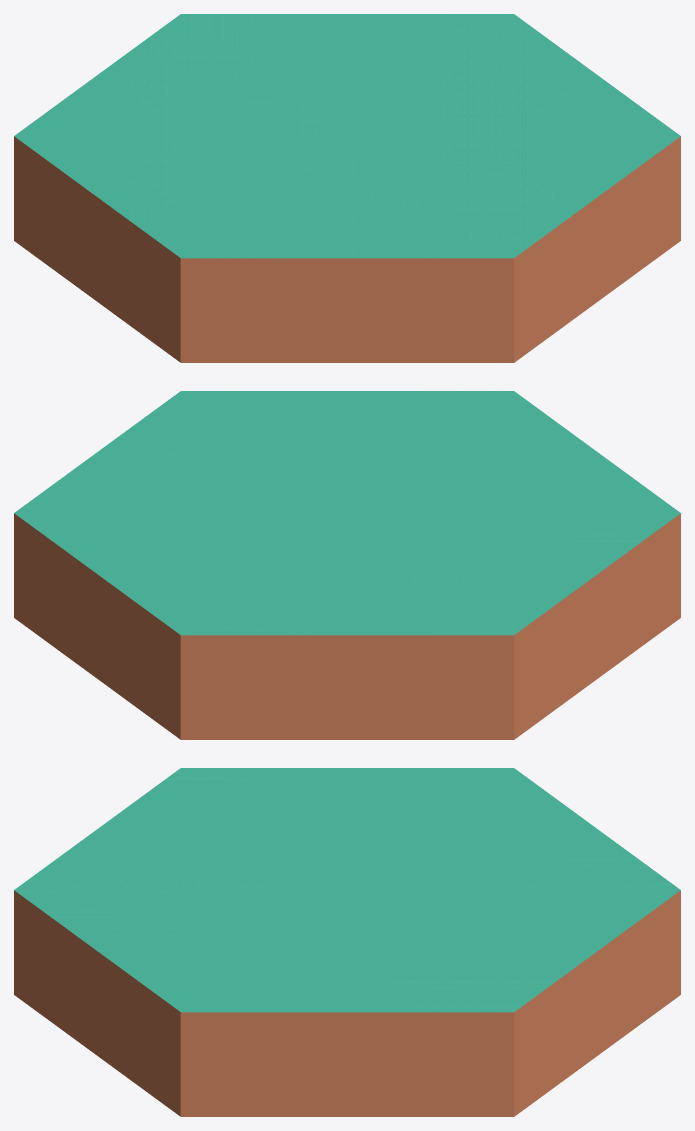
The model's file is grass2.glb.
3 renders of one model, top to bottom at view 1: azimuth 30°, elevation 25°; view 2: azimuth 150°, elevation 25°; view 3: azimuth 270°, elevation 25°, orthographic.
Parts seen in each view (by area): view 1: grass; view 2: grass; view 3: grass.
Part boxes in pixels (left/top/right/bottom): grass: left=14, top=14, right=680, bottom=362; grass: left=14, top=391, right=680, bottom=739; grass: left=14, top=768, right=680, bottom=1116.
Bounding box in the file's own units: 1 × 0.2 × 1.15.
1 material, 1 textured.
